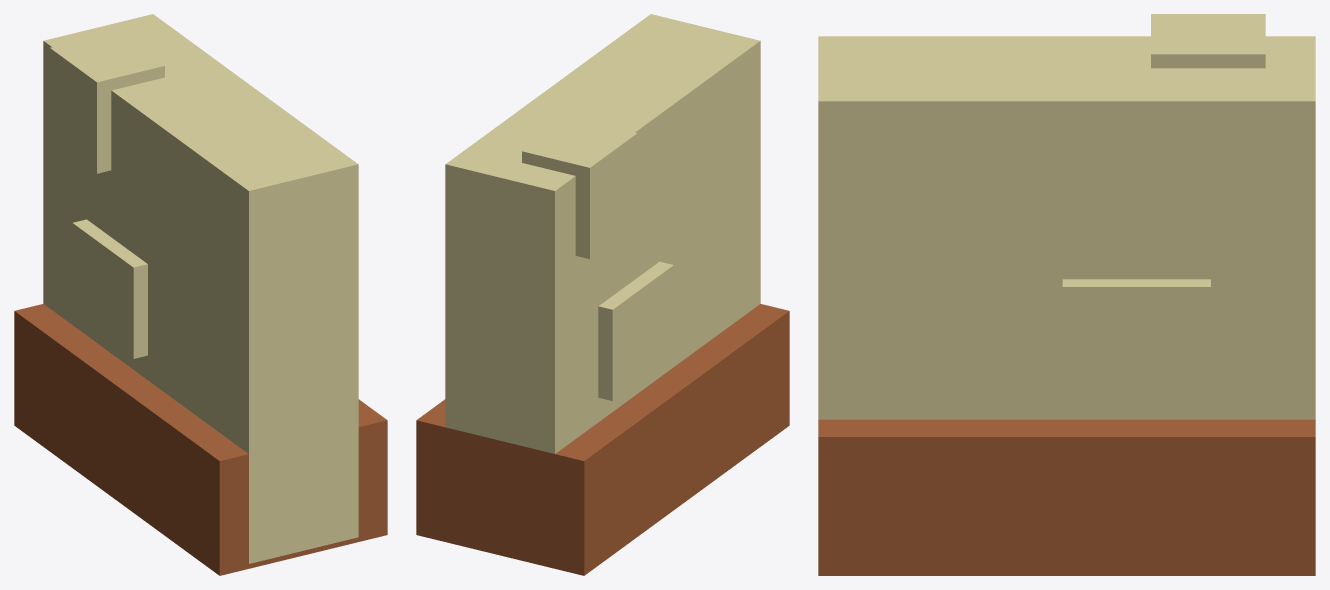
The model's file is fence_short.fbx.
The picture shows the model from 3 angles, left to right: view 1: azimuth 30°, elevation 25°; view 2: azimuth 150°, elevation 25°; view 3: azimuth 270°, elevation 25°; orthographic projection. The views are drawn at different scales.
Visible parts, largest first — view 1: fence.005; view 2: fence.005; view 3: fence.005.
Boxes of the visible parts, x1,y1,x2,y2 form: fence.005: (14, 14, 387, 575); fence.005: (416, 14, 789, 575); fence.005: (818, 14, 1315, 575).
Bounding box in the file's own units: 61.21 × 136 × 130.
